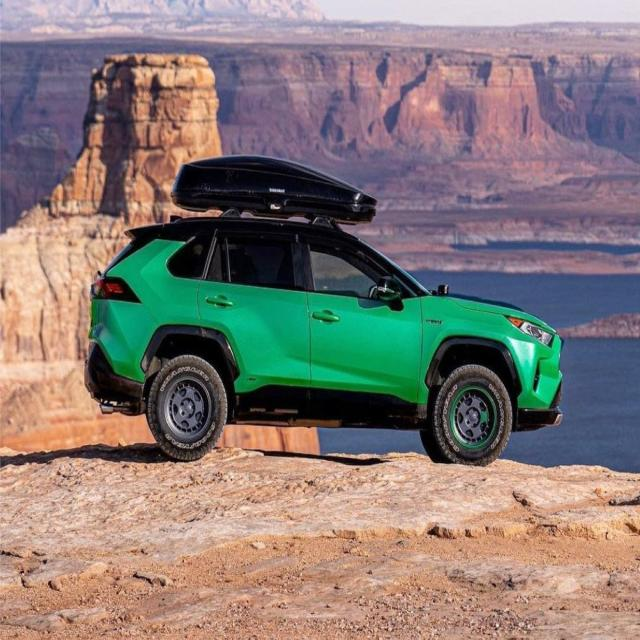light_vehicle: (83, 159, 565, 468)
